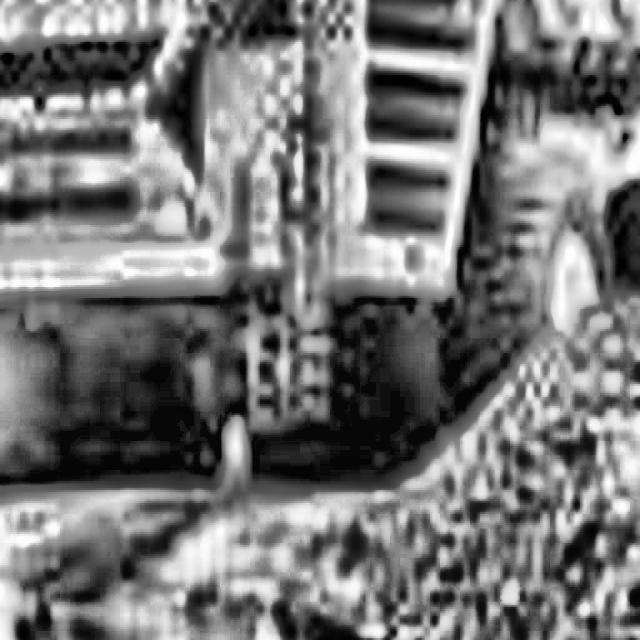dump_truck: (0, 0, 640, 497)
